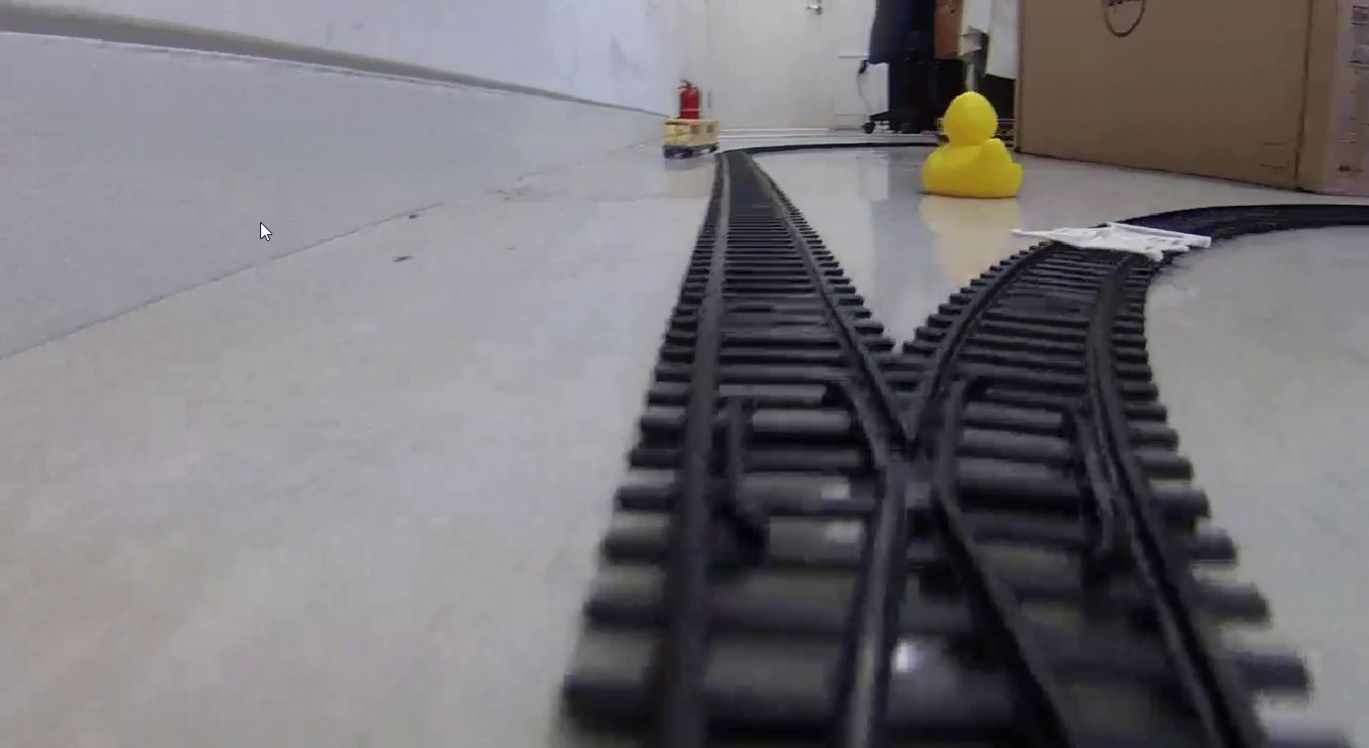web: (1010, 218, 1216, 264)
